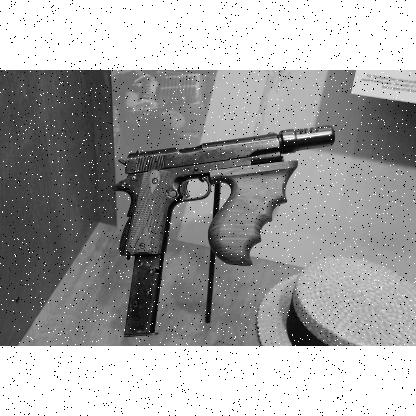gun: (111, 121, 335, 266)
